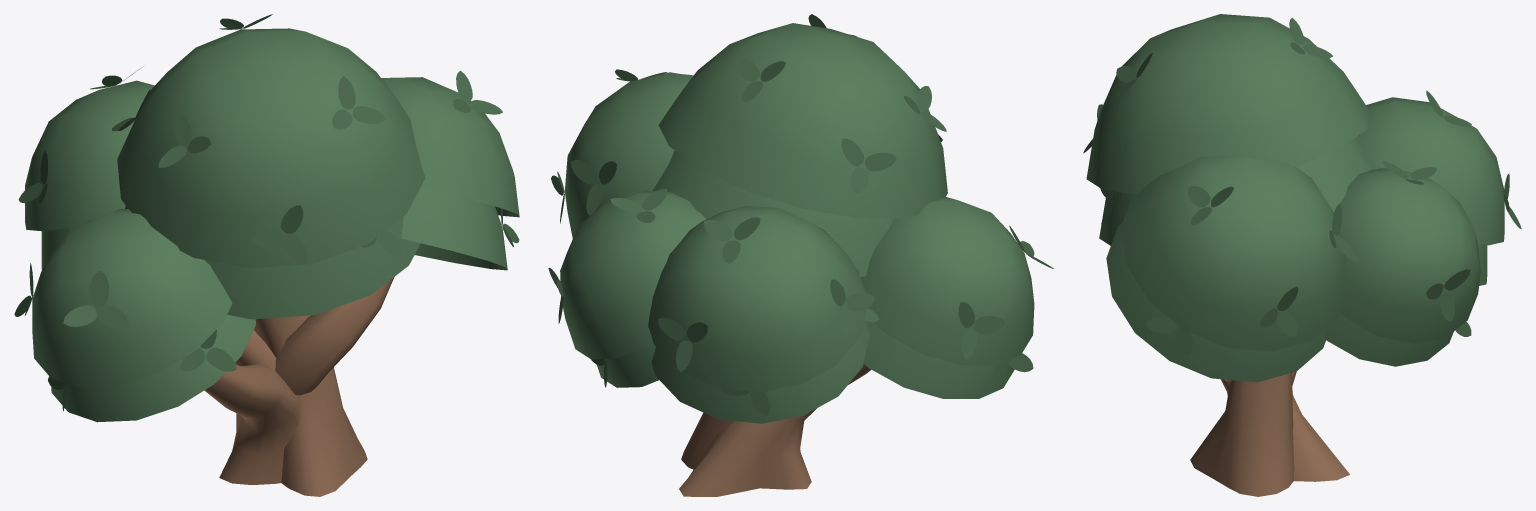
File: Tree_A.fbx
3 renders of one model, left to right at view 1: azimuth 30°, elevation 25°; view 2: azimuth 150°, elevation 25°; view 3: azimuth 270°, elevation 25°, orthographic. The views are drawn at different scales.
Visible parts, largest first — view 1: Tree_A; view 2: Tree_A; view 3: Tree_A.
Boxes of the visible parts, box(x1,y1,x2,y2) form: Tree_A: box(14, 14, 519, 496); Tree_A: box(548, 14, 1053, 496); Tree_A: box(1083, 14, 1521, 496).
Bounding box in the file's own units: 83.58 × 74.31 × 69.97.
